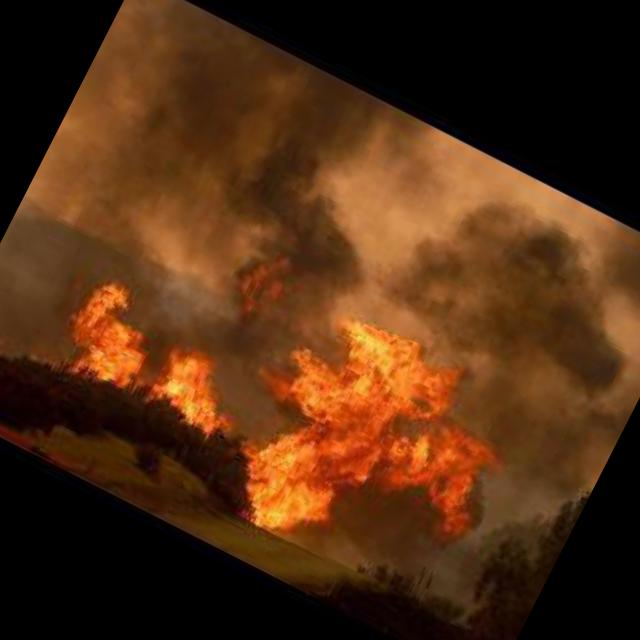fire: (36, 195, 538, 610)
smoke: (83, 10, 436, 364), (351, 160, 640, 476)
